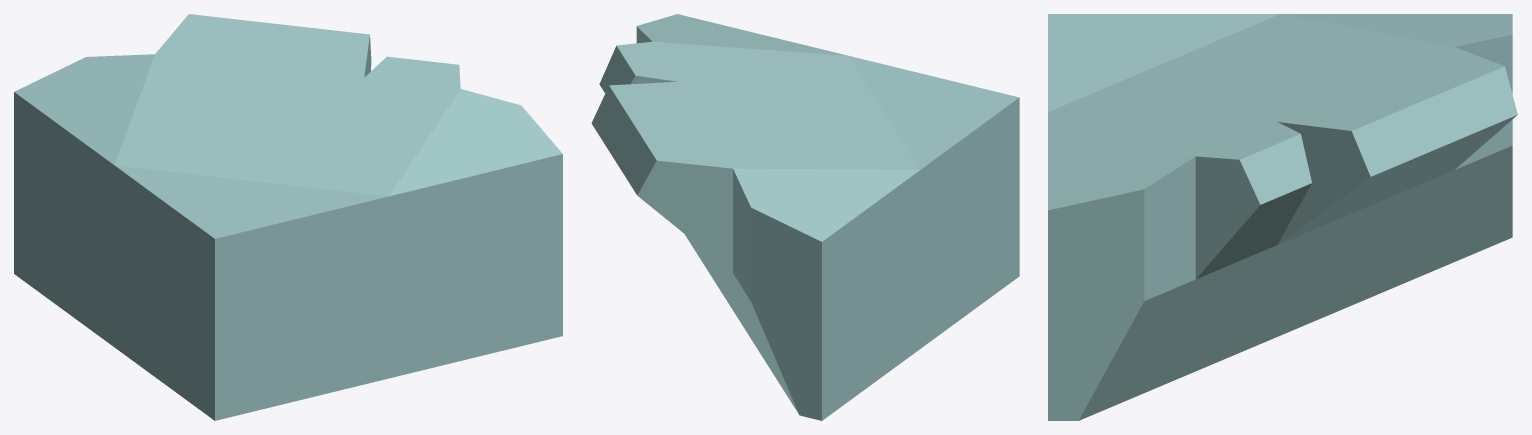
Rendered from x_kray_obriv_blue_23_3.fbx.
The picture shows the model from 3 angles, left to right: view 1: azimuth 30°, elevation 25°; view 2: azimuth 150°, elevation 25°; view 3: azimuth 270°, elevation 25°; orthographic projection. The views are drawn at different scales.
Visible parts, largest first — view 1: x_kray_obriv_blue_23_3_1; view 2: x_kray_obriv_blue_23_3_1; view 3: x_kray_obriv_blue_23_3_1.
Boxes of the visible parts, x1,y1,x2,y2 form: x_kray_obriv_blue_23_3_1: (14, 14, 562, 420); x_kray_obriv_blue_23_3_1: (591, 14, 1019, 420); x_kray_obriv_blue_23_3_1: (1048, 14, 1517, 420).
Bounding box in the file's own units: 2 × 1.21 × 2.02.
